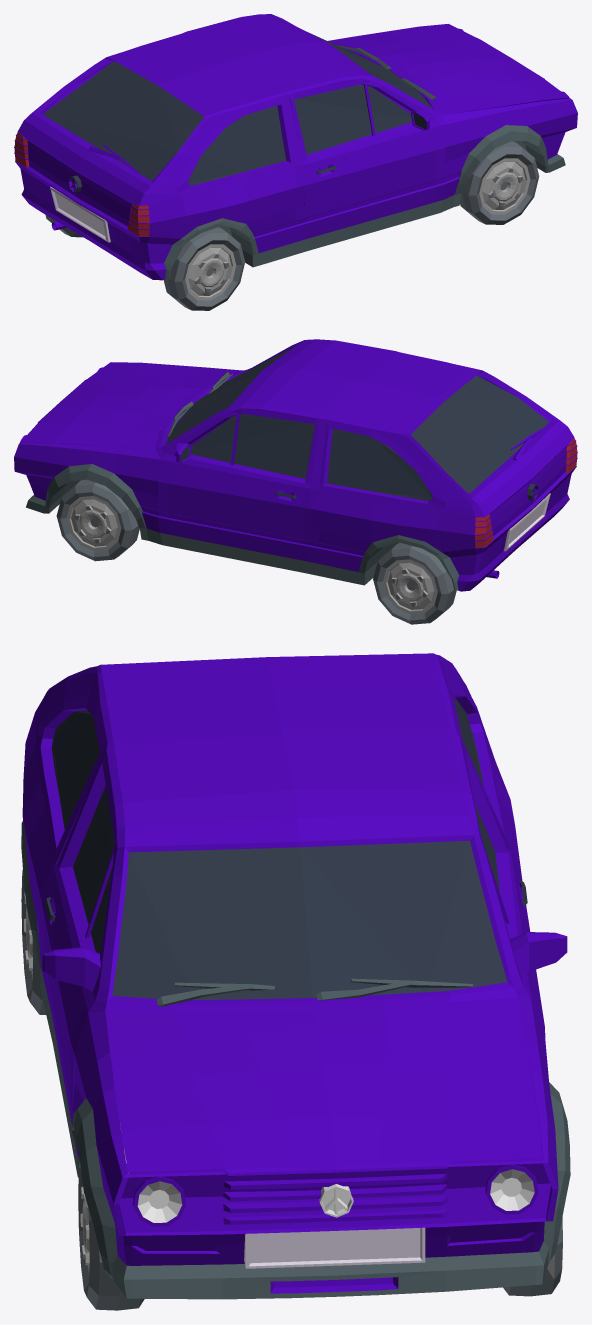
File: car.glb
3 renders of one model, top to bottom at view 1: azimuth 30°, elevation 25°; view 2: azimuth 150°, elevation 25°; view 3: azimuth 270°, elevation 25°, orthographic. The views are drawn at different scales.
Parts seen in each view (by area): view 1: plan.001, df, plan, object 8, planny, Torus.001, Torus.000, cubby, Innt; view 2: plan.001, plann, df, object 8, planny, Torus.001, Torus.000, cubby; view 3: plan.001, object 8, planny, plan, cubby, plann, Torus.000, df, Innt, Torus.001, cyl.
Boxes of the visible parts, x1=… form: plan.001: x1=14, y1=14, x2=577, y2=280; df: x1=18, y1=54, x2=211, y2=226; plan: x1=289, y1=78, x2=445, y2=239; object 8: x1=328, y1=24, x2=569, y2=114; planny: x1=188, y1=33, x2=433, y2=185; Torus.001: x1=45, y1=215, x2=244, y2=310; Torus.000: x1=460, y1=141, x2=539, y2=224; cubby: x1=50, y1=186, x2=110, y2=242; Innt: x1=336, y1=45, x2=435, y2=100; plan.001: x1=14, y1=339, x2=577, y2=591; plann: x1=158, y1=408, x2=320, y2=561; df: x1=403, y1=368, x2=573, y2=535; object 8: x1=21, y1=362, x2=242, y2=449; planny: x1=165, y1=346, x2=432, y2=500; Torus.001: x1=373, y1=542, x2=456, y2=624; Torus.000: x1=56, y1=479, x2=139, y2=561; cubby: x1=503, y1=493, x2=550, y2=551; plan.001: x1=21, y1=660, x2=570, y2=1299; object 8: x1=105, y1=997, x2=543, y2=1175; planny: x1=51, y1=698, x2=506, y2=999; plan: x1=41, y1=749, x2=117, y2=1148; cubby: x1=244, y1=1227, x2=425, y2=1268; plann: x1=459, y1=737, x2=567, y2=1037; Torus.000: x1=78, y1=1162, x2=562, y2=1310; df: x1=43, y1=653, x2=454, y2=698; Innt: x1=156, y1=978, x2=472, y2=1006; Torus.001: x1=21, y1=869, x2=46, y2=1014; cyl: x1=319, y1=1184, x2=353, y2=1217.
Bounding box in the file's own units: 2.45 × 0.9087 × 1.25.
